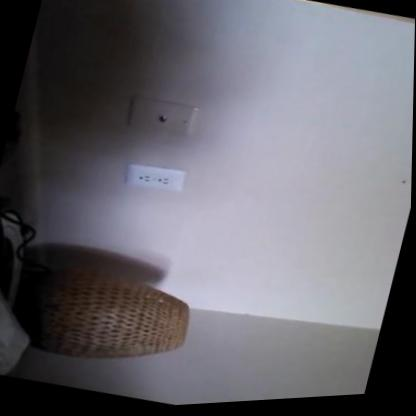OUTLET: (122, 157, 187, 196)
